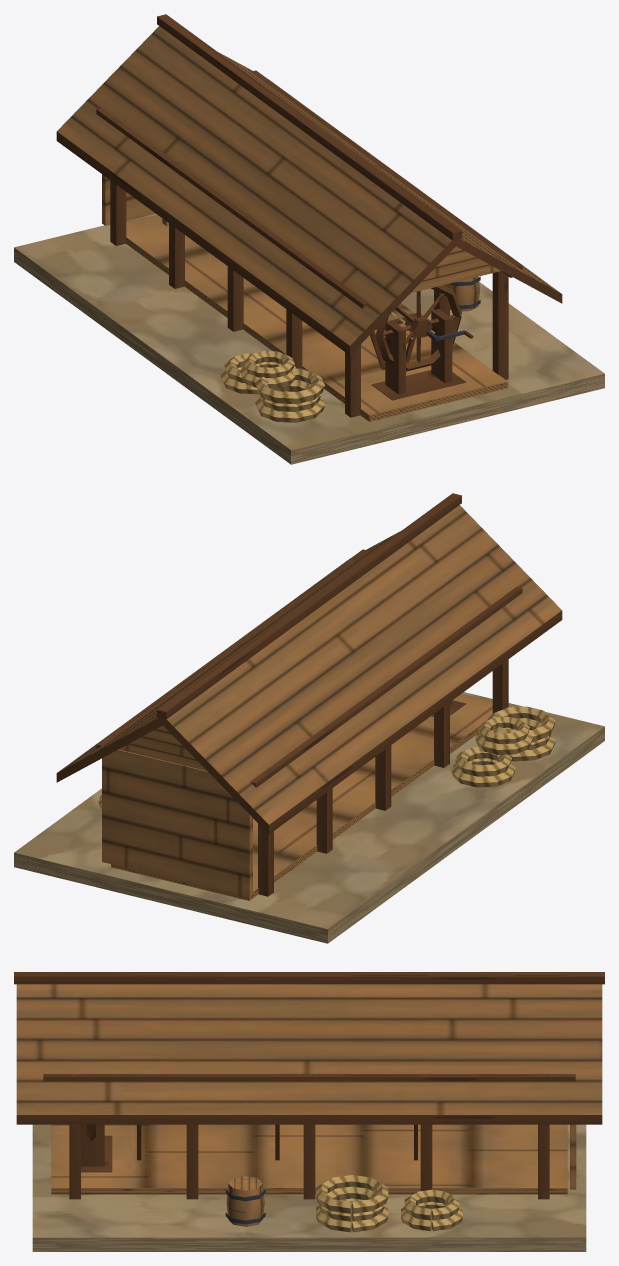
The model's file is ropewalk.glb.
The picture shows the model from 3 angles, top to bottom: view 1: azimuth 30°, elevation 25°; view 2: azimuth 150°, elevation 25°; view 3: azimuth 270°, elevation 25°; orthographic projection.
Parts seen in each view (by area): view 1: ropewalk; view 2: ropewalk; view 3: ropewalk.
Boxes of the visible parts, box(x1,y1,x2,y2) form: ropewalk: box(14, 14, 604, 464); ropewalk: box(14, 493, 604, 943); ropewalk: box(14, 972, 604, 1251).
Bounding box in the file's own units: 6.8 × 4.17 × 11.1.
Materials: 3 (3 with a texture image).
